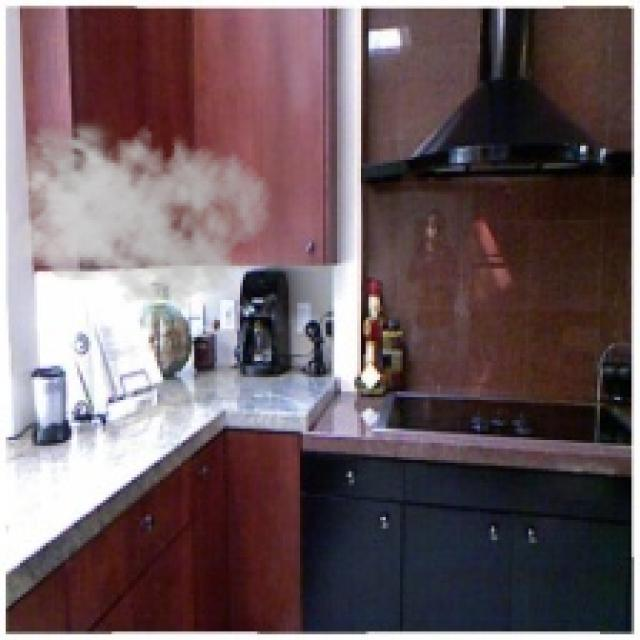smoke: (3, 111, 271, 312)
